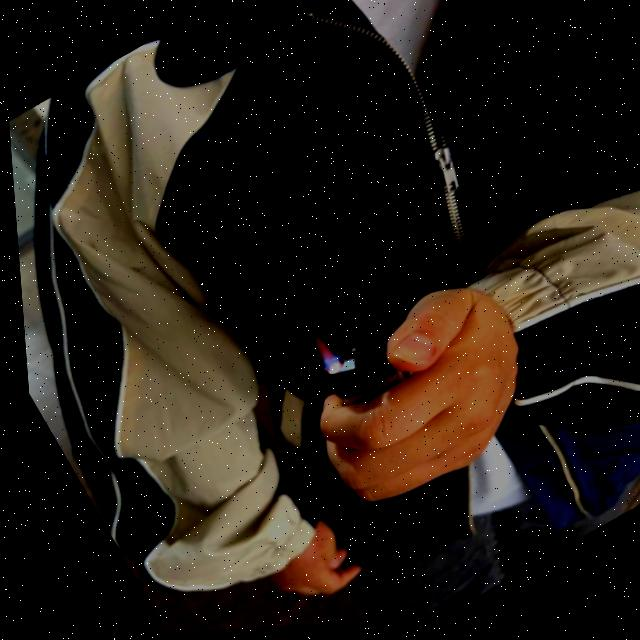Fire: (299, 325, 336, 376)
